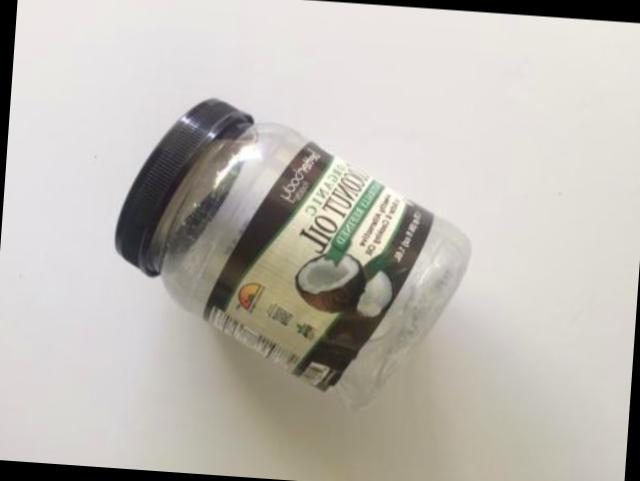plastic: (113, 101, 466, 408)
